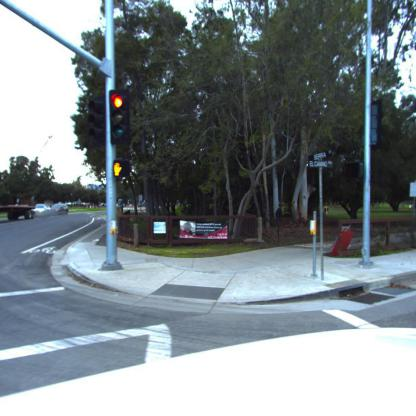car: (0, 203, 36, 221), (50, 203, 68, 216), (34, 204, 50, 215)
traffic light: (110, 91, 132, 146), (114, 160, 131, 178)
